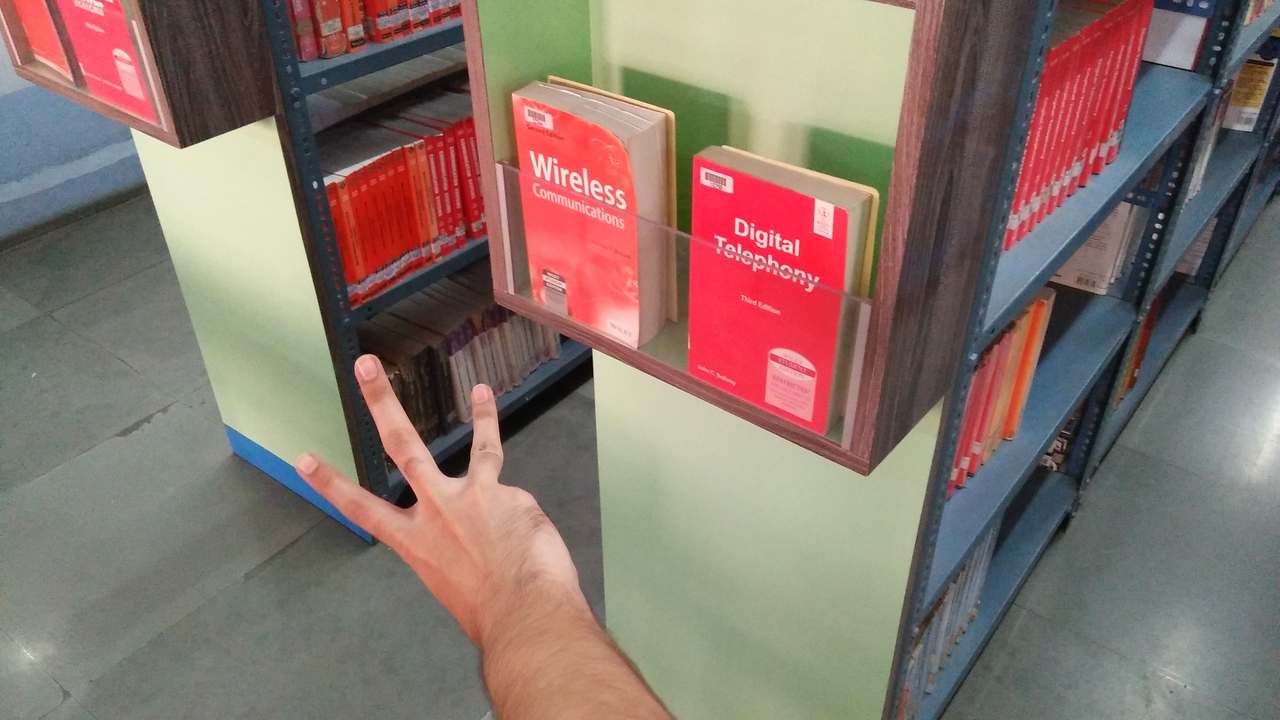fingertip: (342, 348, 396, 396), (456, 372, 504, 414), (286, 451, 329, 489)
